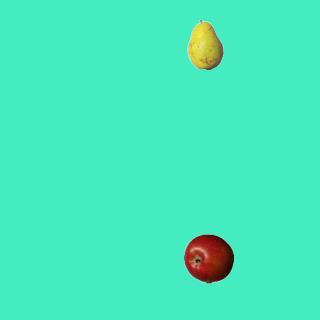Apple Braeburn: (183, 233, 233, 283)
Pear Monster: (180, 19, 230, 69)
